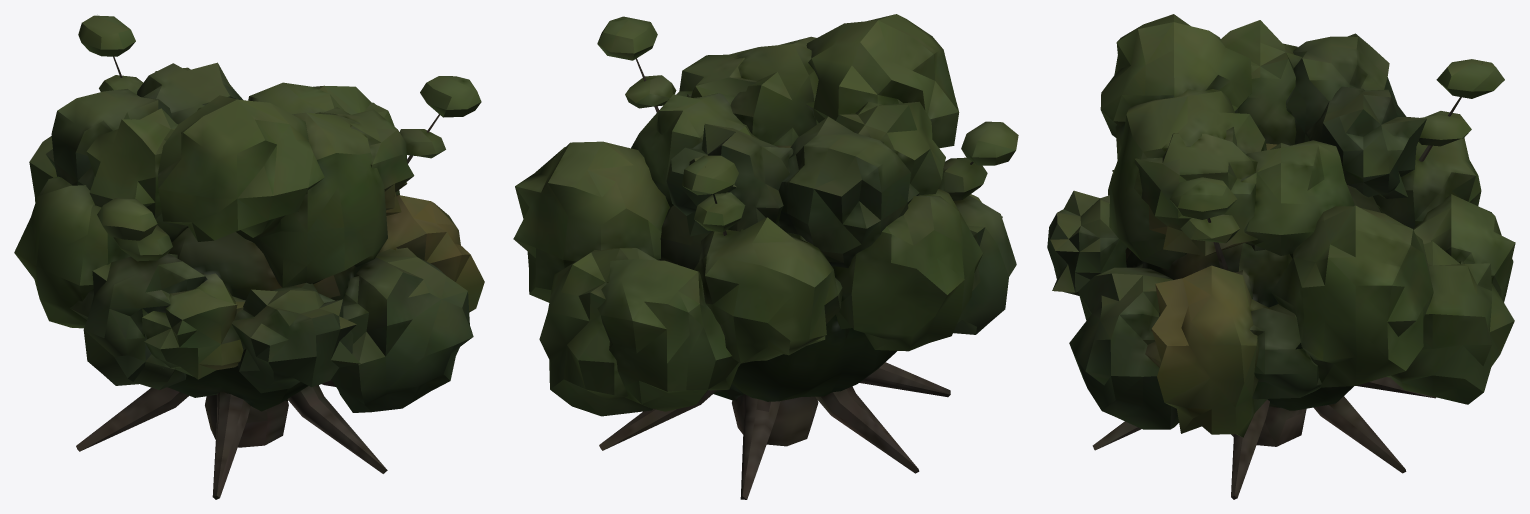
File: bush.glb
3 views of the same model, side by side, from view 1: azimuth 30°, elevation 25°; view 2: azimuth 150°, elevation 25°; view 3: azimuth 270°, elevation 25° (orthographic). The views are drawn at different scales.
Visible parts, largest first — view 1: bush; view 2: bush; view 3: bush.
Boxes of the visible parts, x1=… form: bush: x1=14, y1=15, x2=484, y2=499; bush: x1=513, y1=14, x2=1018, y2=499; bush: x1=1047, y1=14, x2=1515, y2=499.
Bounding box in the file's own units: 0.7672 × 0.6962 × 0.7721.
Materials: 1 (1 with a texture image).
